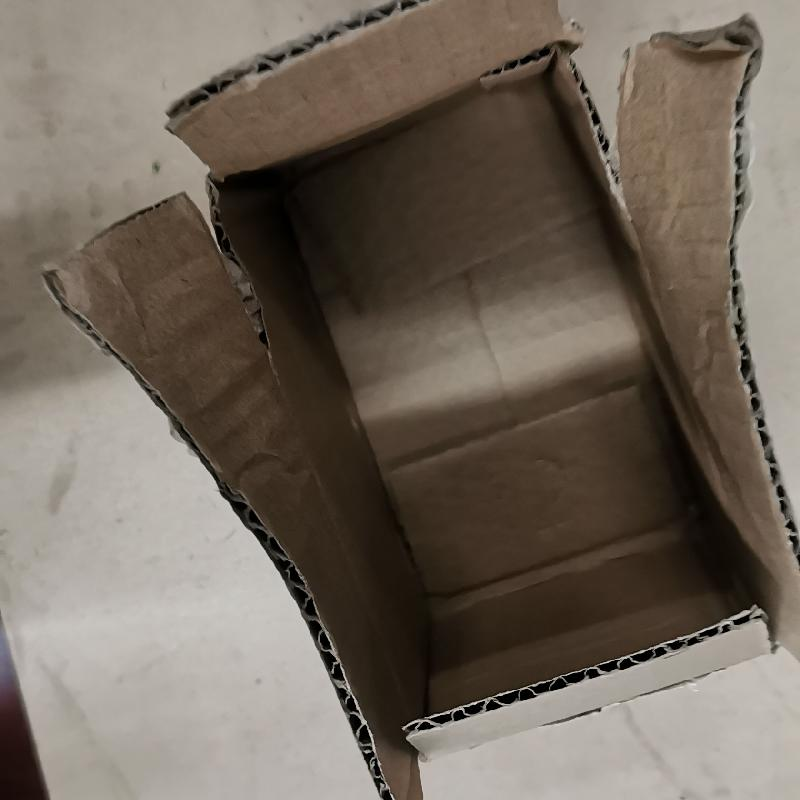boxes: (39, 4, 800, 799)
